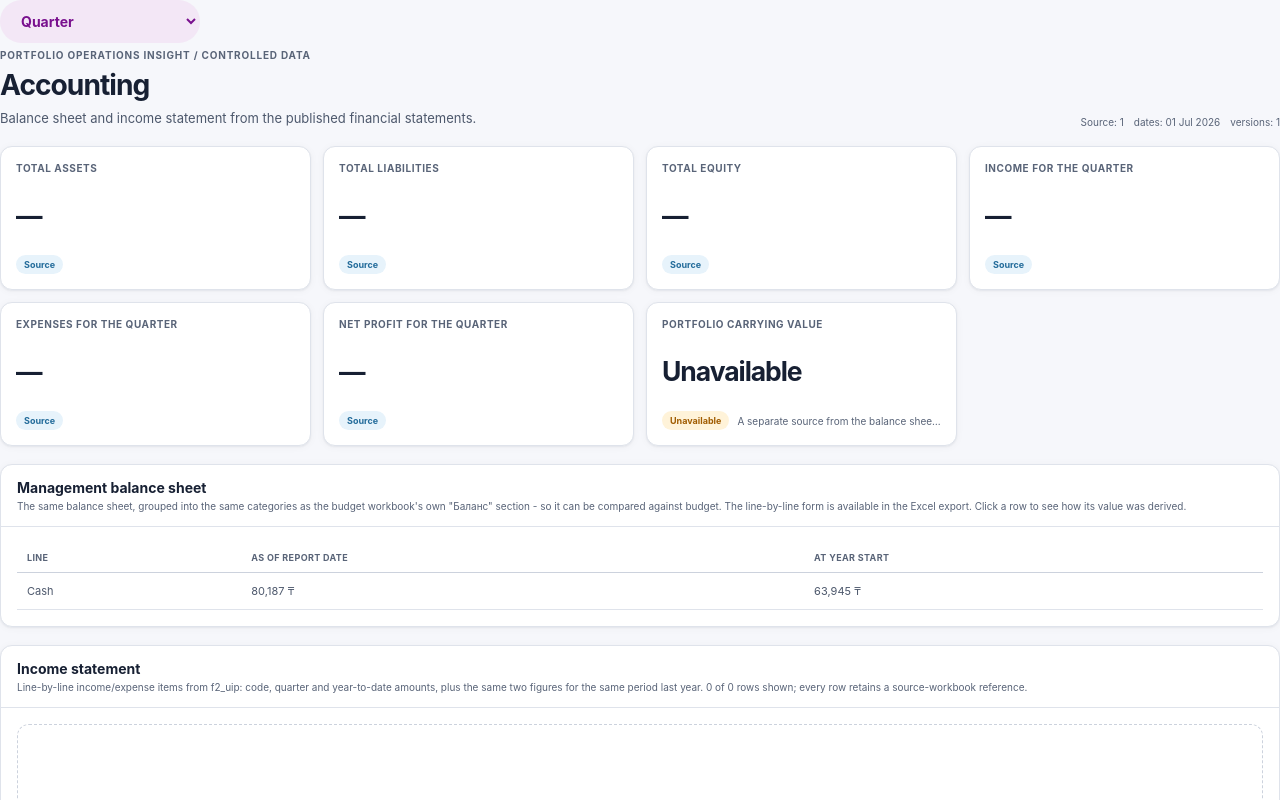
Test case: multi-source domain pages › opens a formula breakdown drawer when a management balance sheet row is clicked
Click the text "Cash" at x=129, y=591, box x1=17 y1=573 x2=241 y2=610
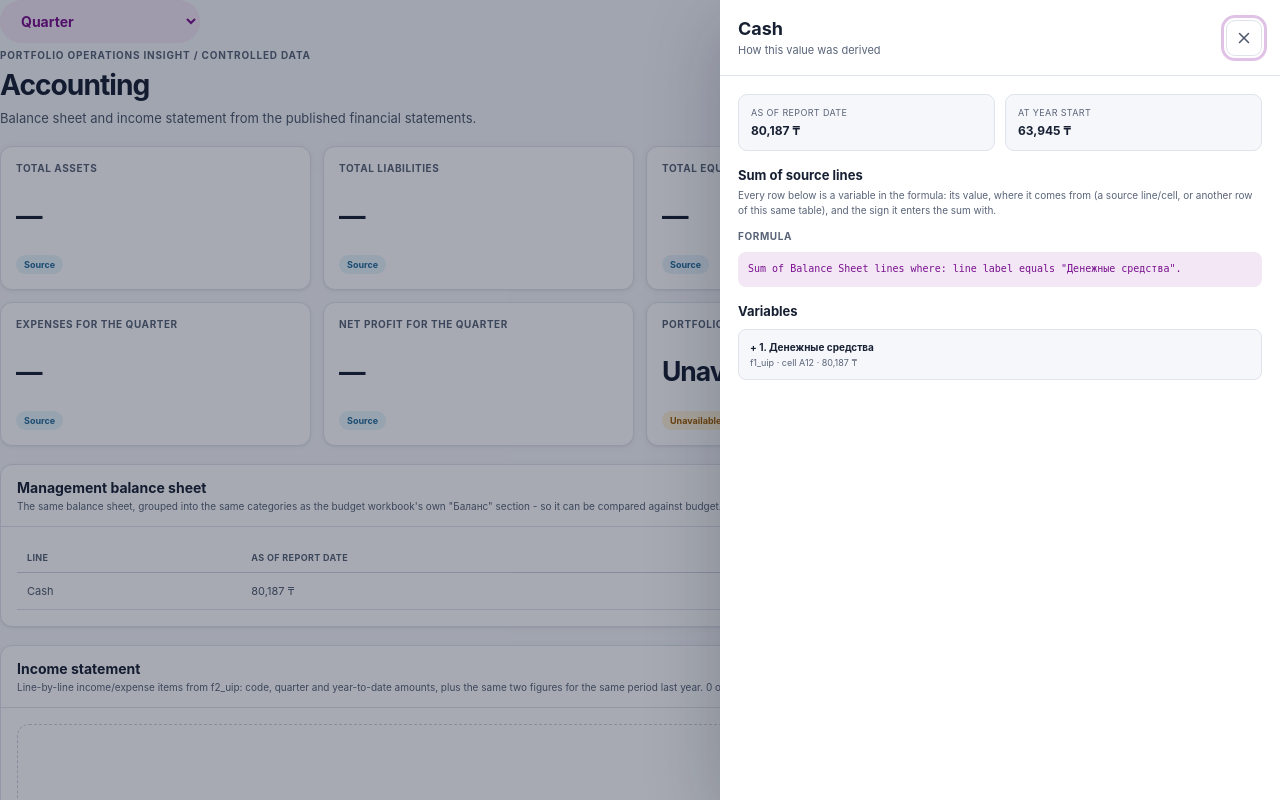
expect the text "How this value was derived" is shown: met, box x1=738 y1=43 x2=881 y2=57
expect the text "line label equals" is shown: met, box x1=748 y1=263 x2=1182 y2=274
Click the text "+ 1. Денежные средства" at x=812, y=346, box x1=750 y1=340 x2=874 y2=352
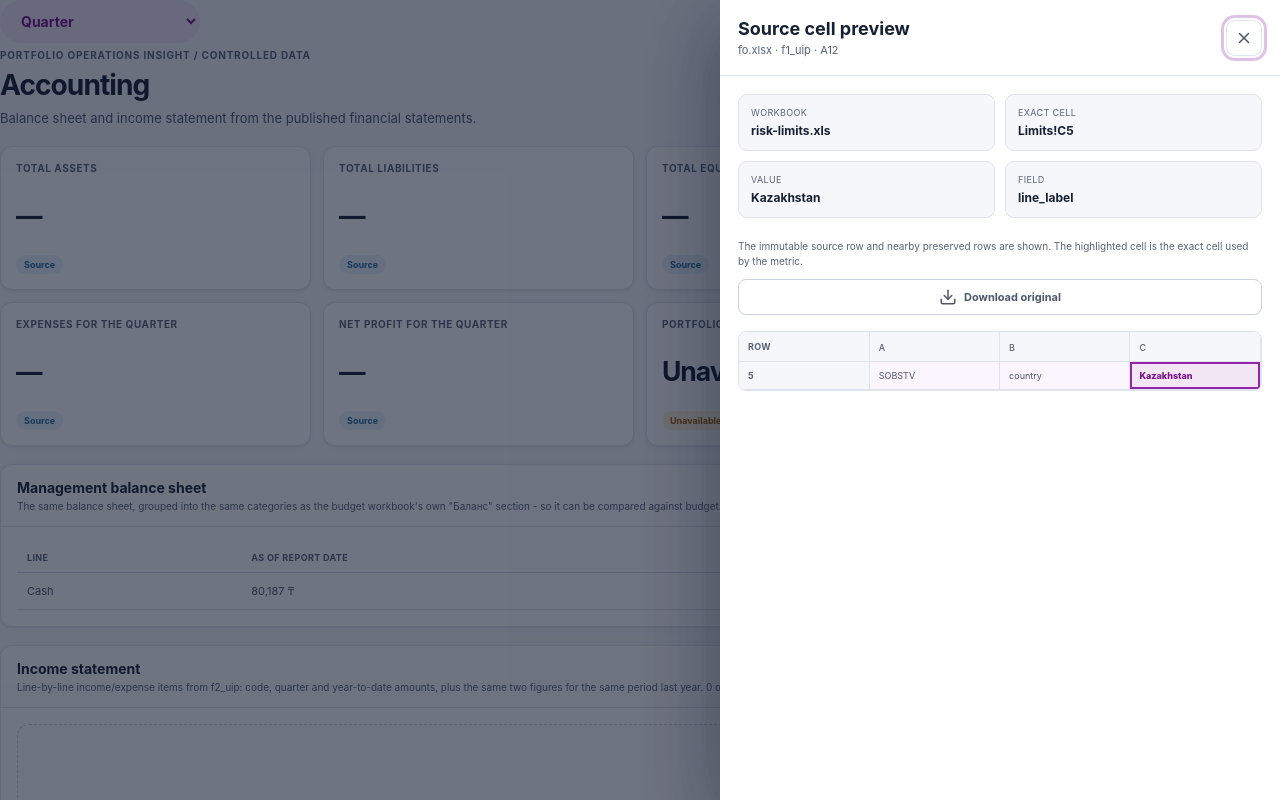
expect the heading "Source cell preview" is shown: met, box x1=738 y1=18 x2=910 y2=39
